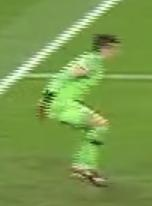goalkeeper: (33, 22, 137, 196)
